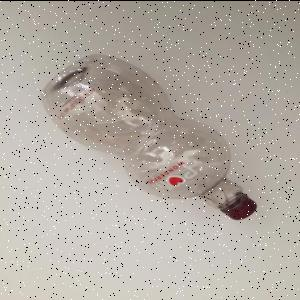Plastic-bottle: (40, 53, 258, 221)
